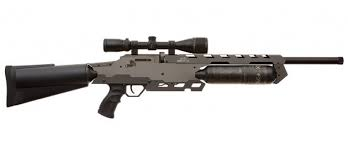Arma Real: (4, 37, 344, 120)
